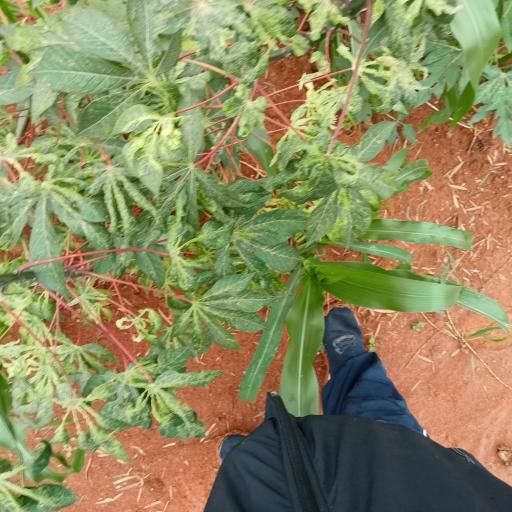Cassava_Mosaic: (97, 368, 204, 436)
